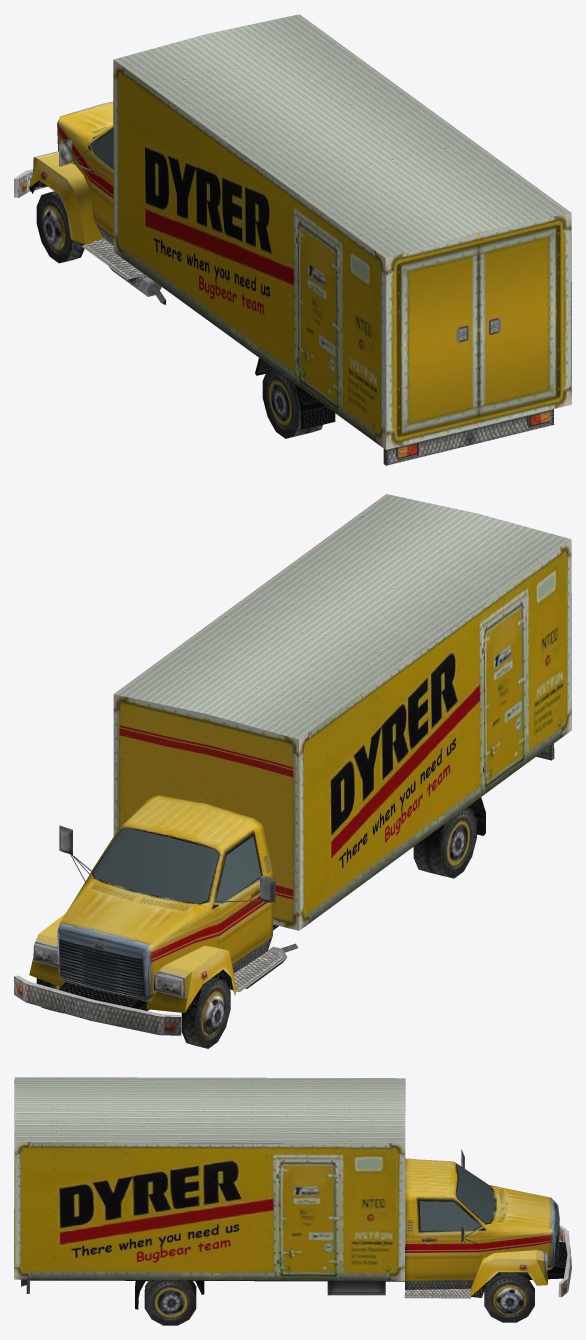
Rendered from p54_07_box_truck_delivery_yellow.glb.
The picture shows the model from 3 angles, top to bottom: view 1: azimuth 30°, elevation 25°; view 2: azimuth 150°, elevation 25°; view 3: azimuth 270°, elevation 25°; orthographic projection. The views are drawn at different scales.
Visible parts, largest first — view 1: Body; view 2: Body, Glass; view 3: Body, Glass.
Part boxes in pixels (box(x1,y1,x2,y2)): Body: box(14, 14, 571, 465); Body: box(14, 494, 571, 1048); Glass: box(93, 828, 260, 903); Body: box(14, 1077, 571, 1325); Glass: box(419, 1164, 495, 1230).
Size of the model in its own units: 3.32 by 3.82 by 10.33.
2 materials, 2 textured.
